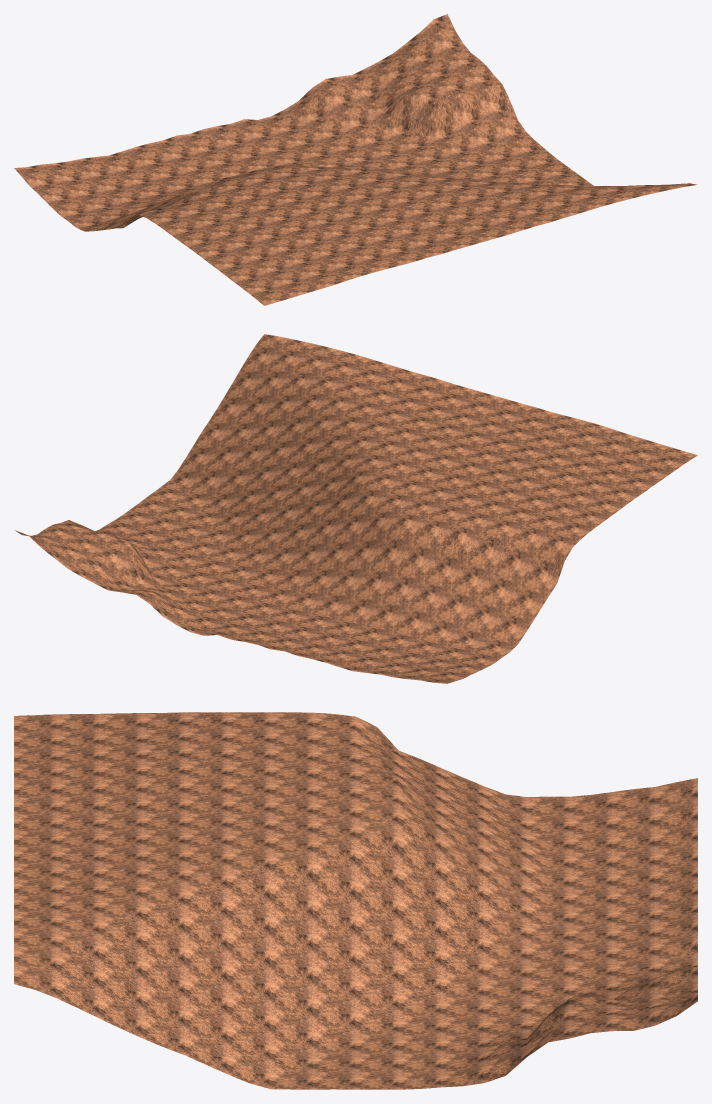
Rendered from terrain_03_11.dae.
3 views of the same model, one above another, from view 1: azimuth 30°, elevation 25°; view 2: azimuth 150°, elevation 25°; view 3: azimuth 270°, elevation 25° (orthographic). The views are drawn at different scales.
Parts seen in each view (by area): view 1: terrain_03_11-node; view 2: terrain_03_11-node; view 3: terrain_03_11-node.
Part boxes in pixels (box(x1,y1,x2,y2)): terrain_03_11-node: box(14, 14, 697, 305); terrain_03_11-node: box(15, 334, 697, 683); terrain_03_11-node: box(14, 712, 697, 1089).
Bounding box in the file's own units: 128 × 128 × 22.48.
Materials: 1 (1 with a texture image).
